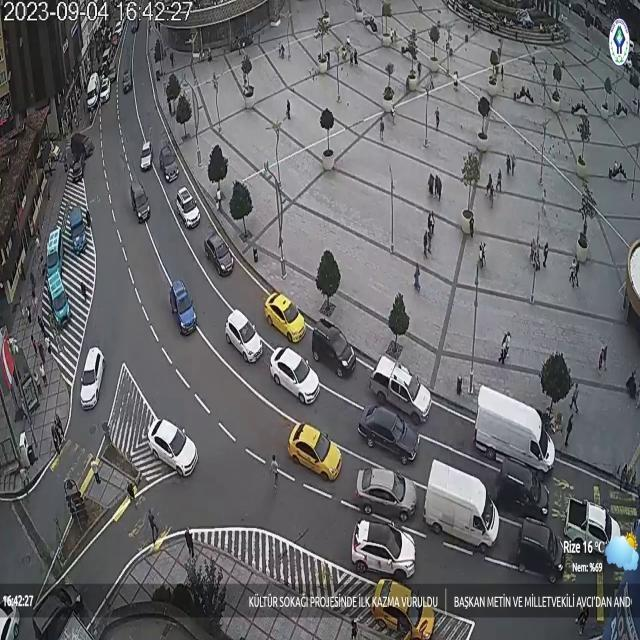Car: (372, 577, 436, 640), (352, 518, 417, 579), (358, 401, 418, 464), (356, 467, 417, 523), (288, 422, 343, 482), (148, 420, 199, 478), (271, 345, 320, 404), (32, 584, 83, 639), (264, 291, 306, 343), (225, 309, 262, 363), (80, 346, 106, 411), (169, 281, 196, 335), (205, 232, 234, 276), (176, 185, 200, 230), (0, 596, 21, 640), (160, 147, 180, 183), (140, 141, 154, 171), (100, 78, 112, 104), (122, 70, 132, 94)
Truck: (562, 497, 622, 561)
Van: (473, 385, 555, 477), (424, 458, 498, 552), (496, 456, 550, 520), (519, 518, 566, 583), (310, 319, 356, 376), (47, 271, 71, 325), (44, 228, 64, 276), (68, 206, 86, 252), (71, 133, 95, 157), (86, 72, 100, 111), (102, 48, 112, 66)
